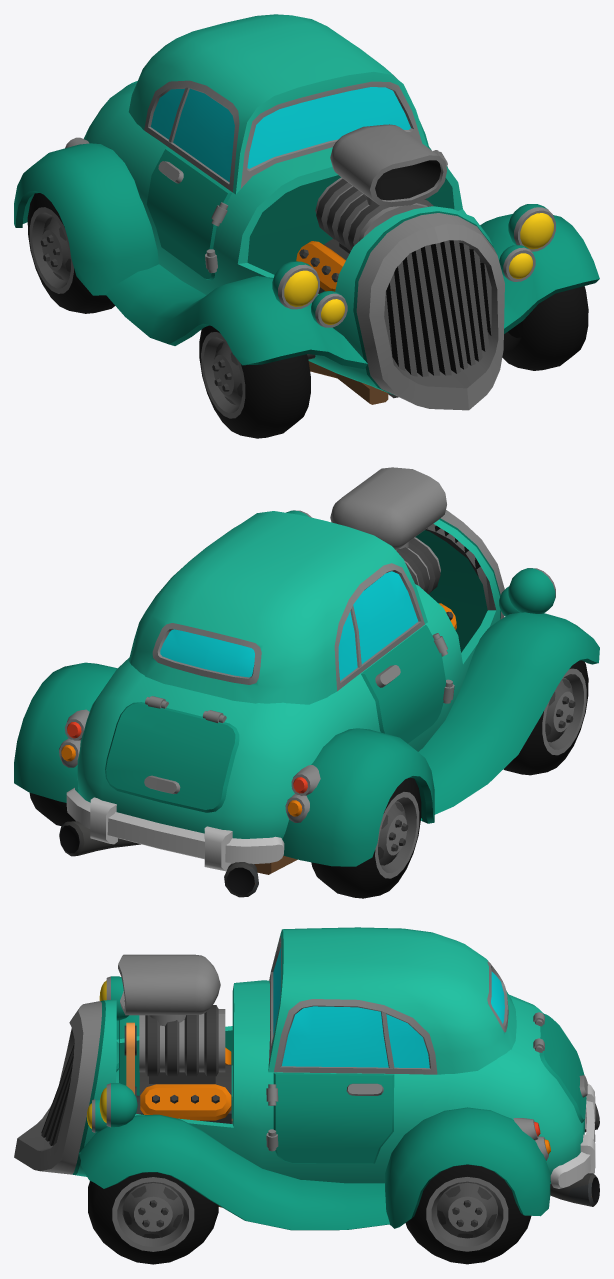
The model's file is VEH3-A.fbx.
3 renders of one model, top to bottom at view 1: azimuth 30°, elevation 25°; view 2: azimuth 150°, elevation 25°; view 3: azimuth 270°, elevation 25°, orthographic. The views are drawn at different scales.
Visible parts, largest first — view 1: VEH3_A, V3A_Wheel_FR, V3A_Wheel_FL, V3A_Wheel_BR; view 2: VEH3_A, V3A_Wheel_BR, V3A_Wheel_FR, V3A_Wheel_BL; view 3: VEH3_A, V3A_Wheel_FL, V3A_Wheel_BL.
Part boxes in pixels (x1,y1,x2,y2): VEH3_A: (14, 14, 599, 410); V3A_Wheel_FR: (199, 325, 310, 438); V3A_Wheel_FL: (502, 286, 588, 370); V3A_Wheel_BR: (27, 193, 114, 313); VEH3_A: (14, 467, 599, 897); V3A_Wheel_BR: (311, 778, 421, 898); V3A_Wheel_FR: (503, 660, 588, 775); V3A_Wheel_BL: (29, 793, 75, 826); VEH3_A: (14, 927, 599, 1230); V3A_Wheel_FL: (88, 1172, 218, 1264); V3A_Wheel_BL: (405, 1164, 531, 1264).
Size of the model in its own units: 263 by 186 by 399.
1 material, 1 textured.
